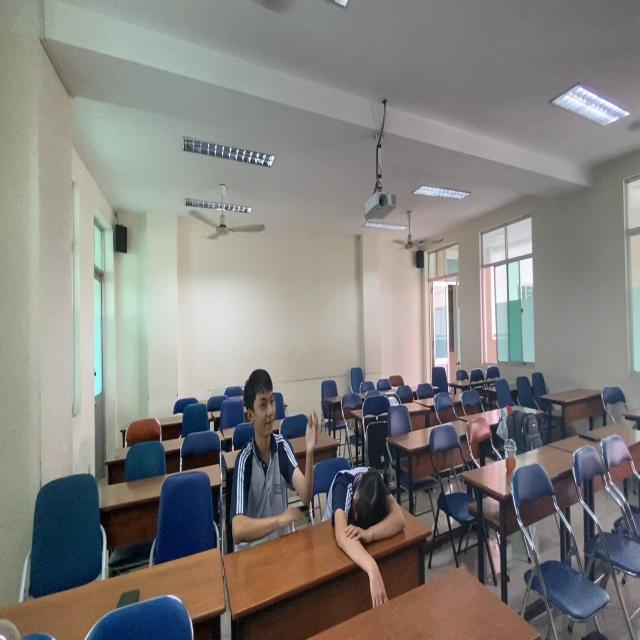raise_hand: (233, 360, 320, 549)
sleep: (321, 452, 410, 552)
